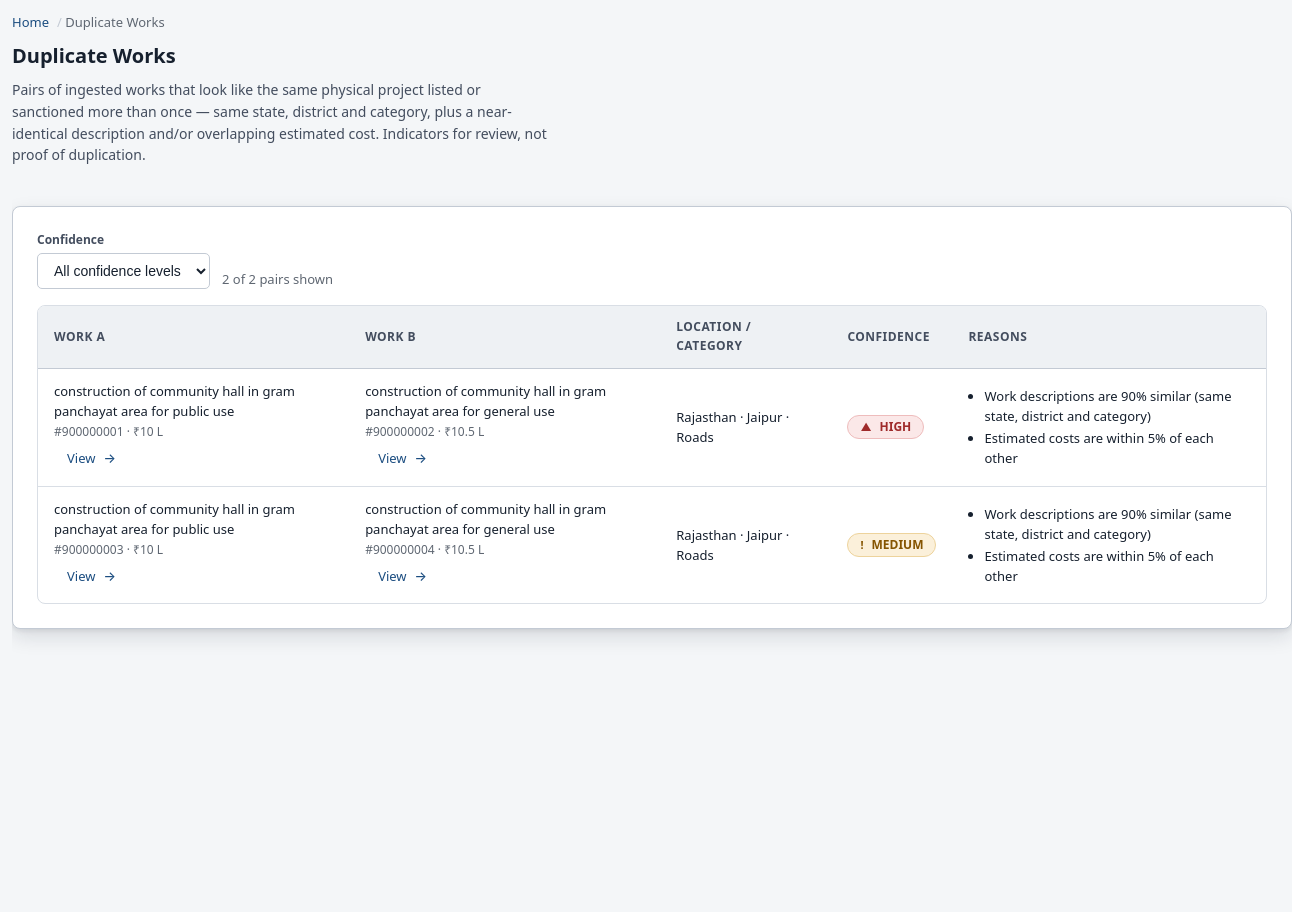
DuplicateWorks › filters the table by confidence level
Expected: the number of rows is 3, [38,306,1266,368]; [38,369,1266,486]; [38,486,1266,603]
Select "HIGH" in the dropdown labelled "Confidence": coordinates (124, 272) [37,254,210,290]
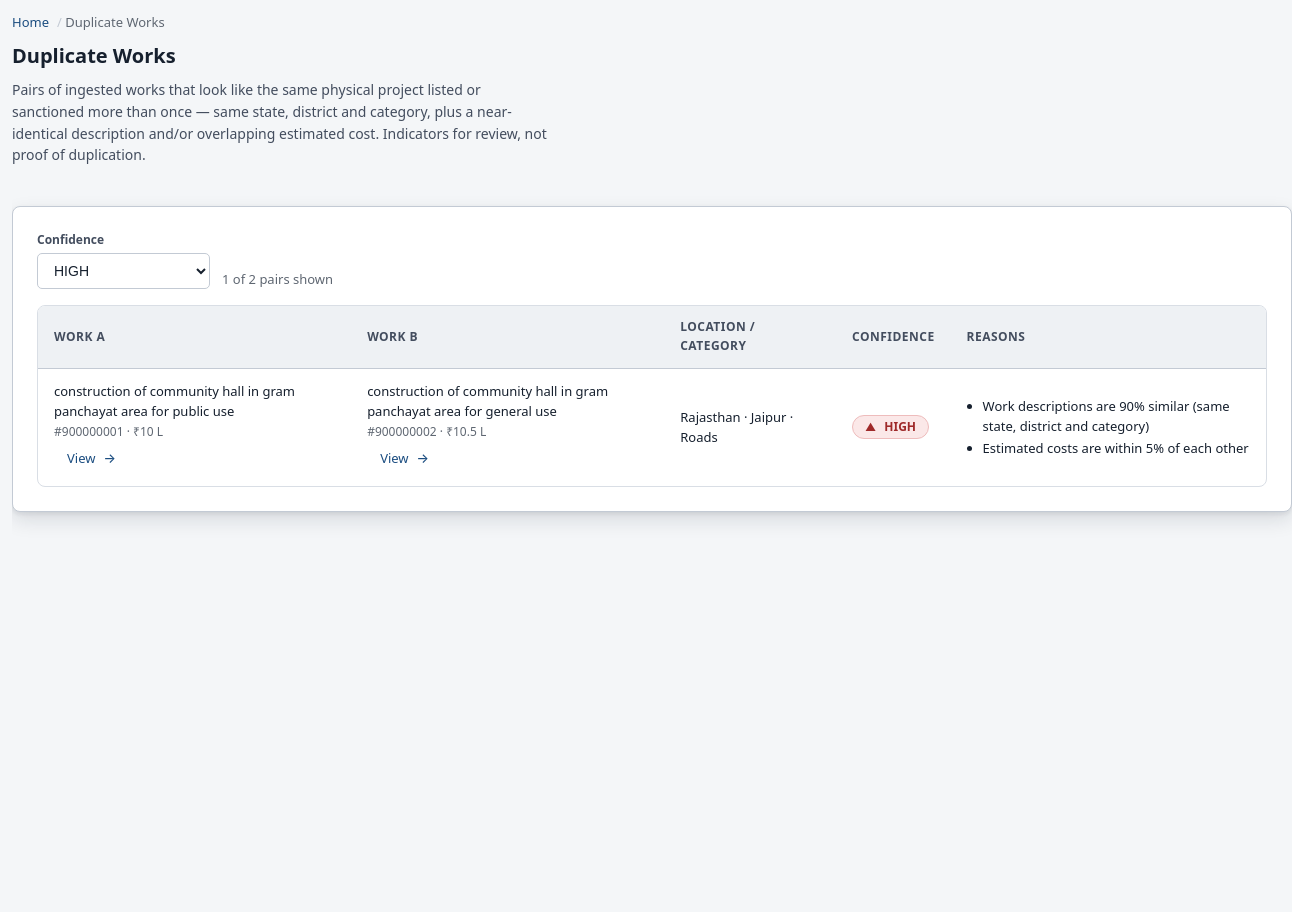
Result: the number of rows is 2 at [38,306,1266,368]; [38,369,1266,486]
